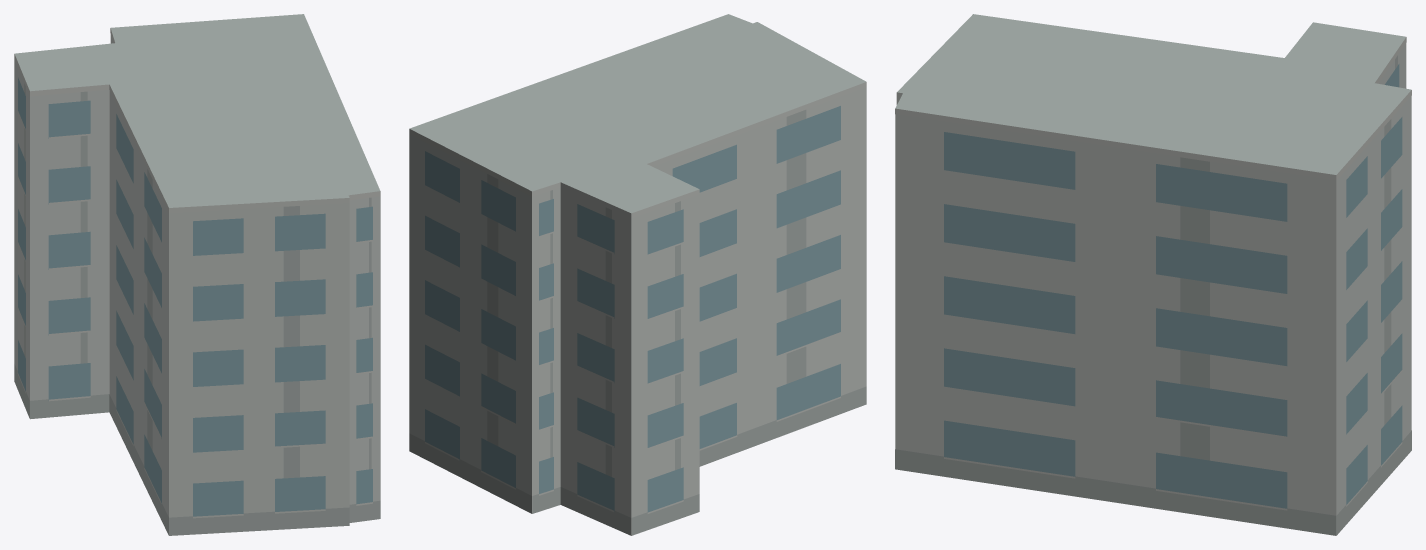
File: survey-upis-32893874.glb
3 renders of one model, left to right at view 1: azimuth 30°, elevation 25°; view 2: azimuth 150°, elevation 25°; view 3: azimuth 270°, elevation 25°, orthographic. The views are drawn at different scales.
Parts seen in each view (by area): view 1: survey-upis-32893874.tmp; view 2: survey-upis-32893874.tmp; view 3: survey-upis-32893874.tmp.
Part boxes in pixels (x1,y1,x2,y2): survey-upis-32893874.tmp: (14,14,380,535); survey-upis-32893874.tmp: (409,14,866,535); survey-upis-32893874.tmp: (895,14,1411,535).
Size of the model in its own units: 14.61 by 15.25 by 19.8.
